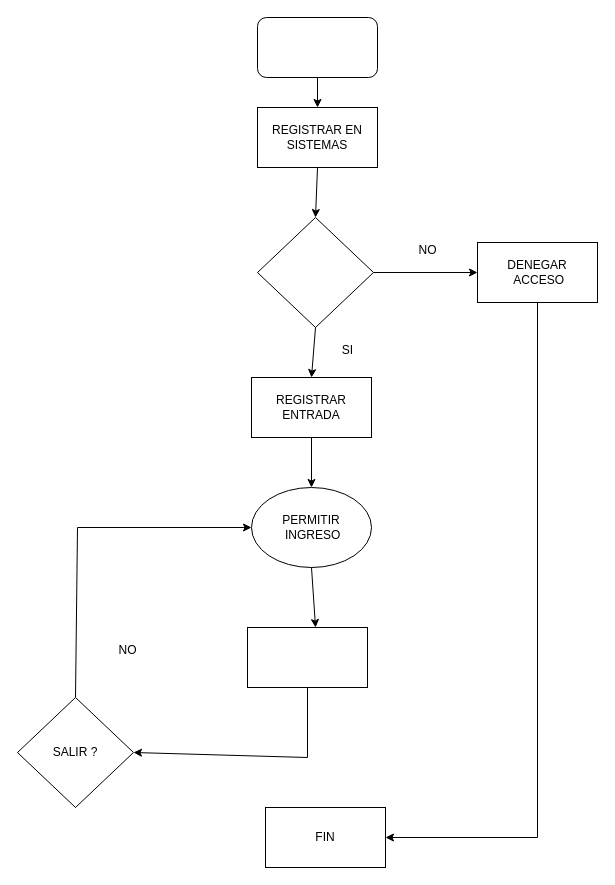
This 615x885 diagram has some shape labels left out. The shapes that lost their labels are listed below. From the top down, each one's centre as x and y in pixels, then its label:
At pixel 317 47: "INICIO".
At pixel 315 272: "INGRESO AUTORIZADO ?".
At pixel 307 657: "REGISTRAR SALIDA".
